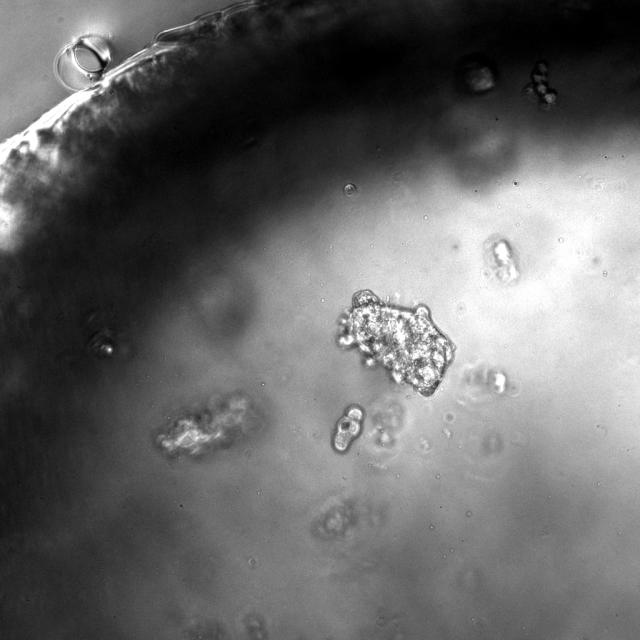organoid: (336, 289, 454, 398), (154, 392, 263, 458), (482, 234, 519, 285), (523, 61, 557, 108), (331, 405, 363, 453), (458, 54, 496, 93), (343, 183, 356, 196)
